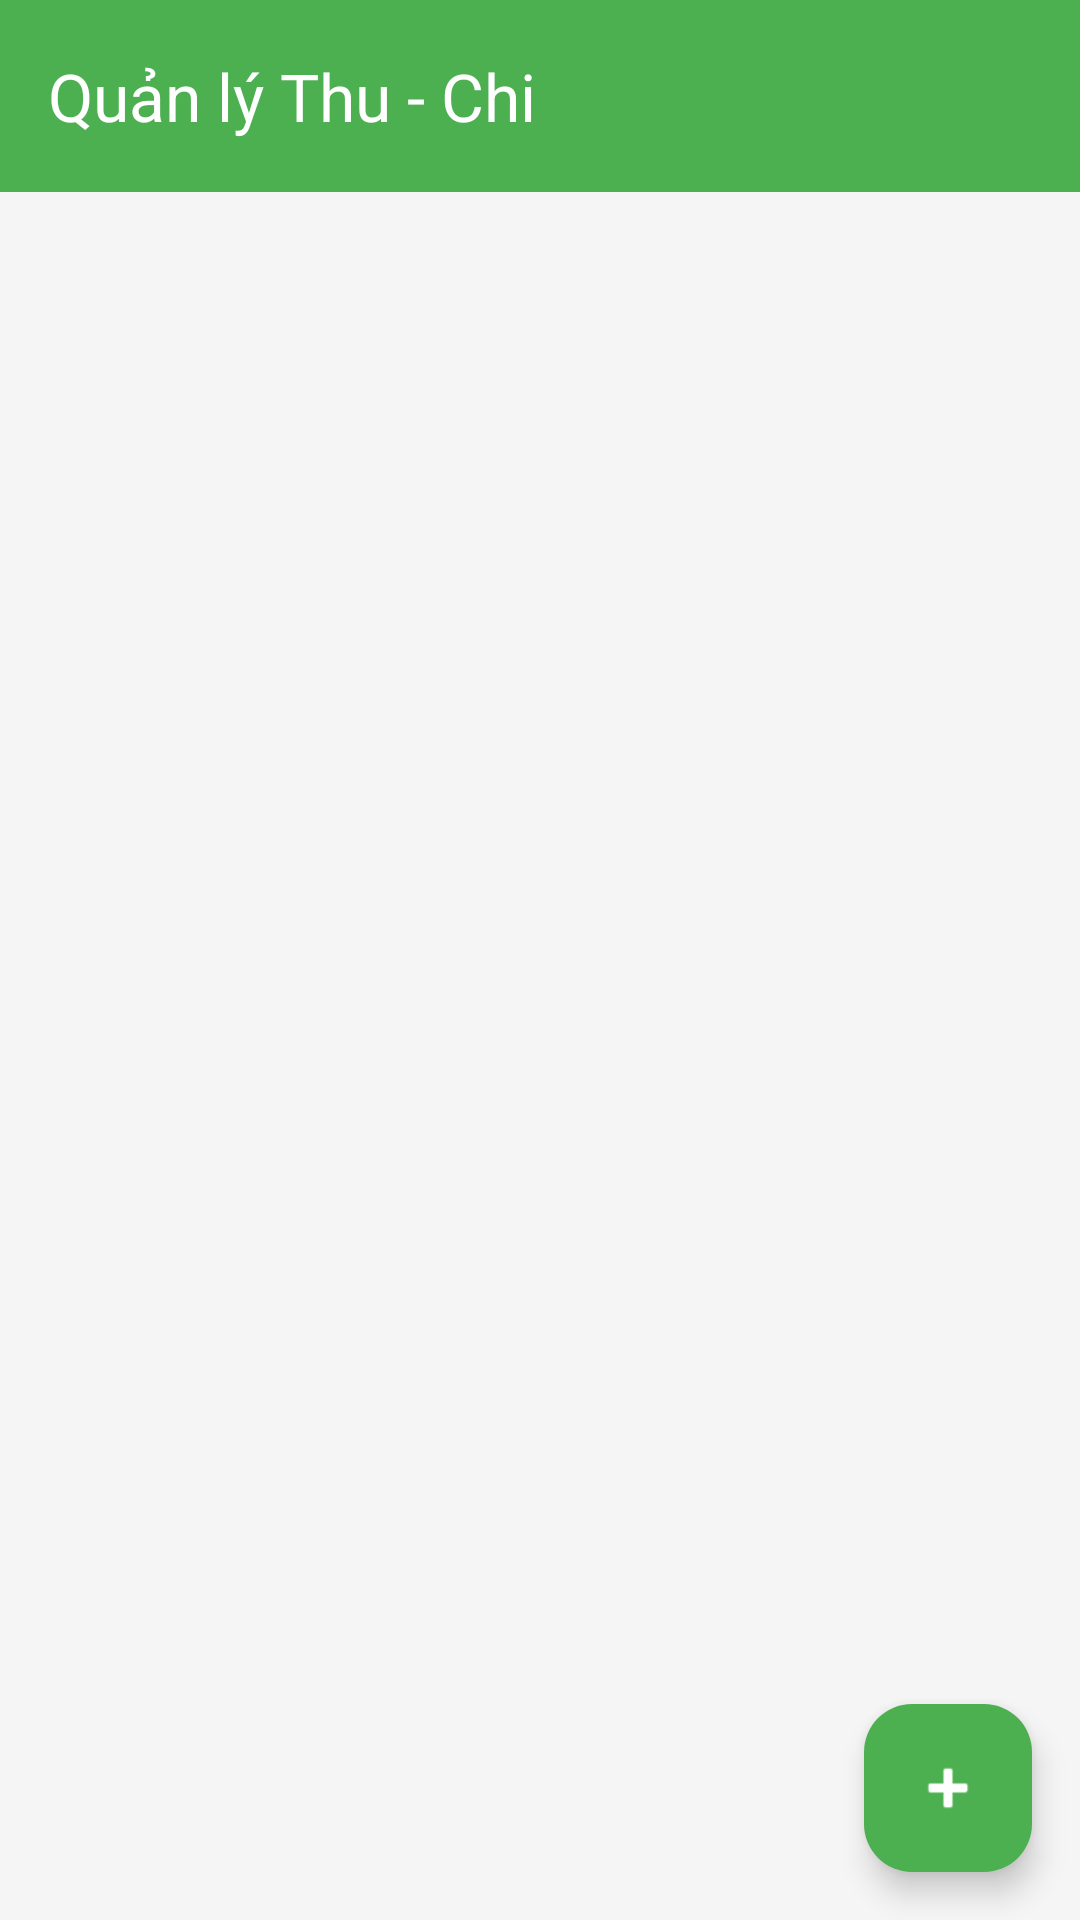

Icon click points for this 1080px×1920px phone screenshot, format (x,y):
Thêm thu chi: (948,1788)
